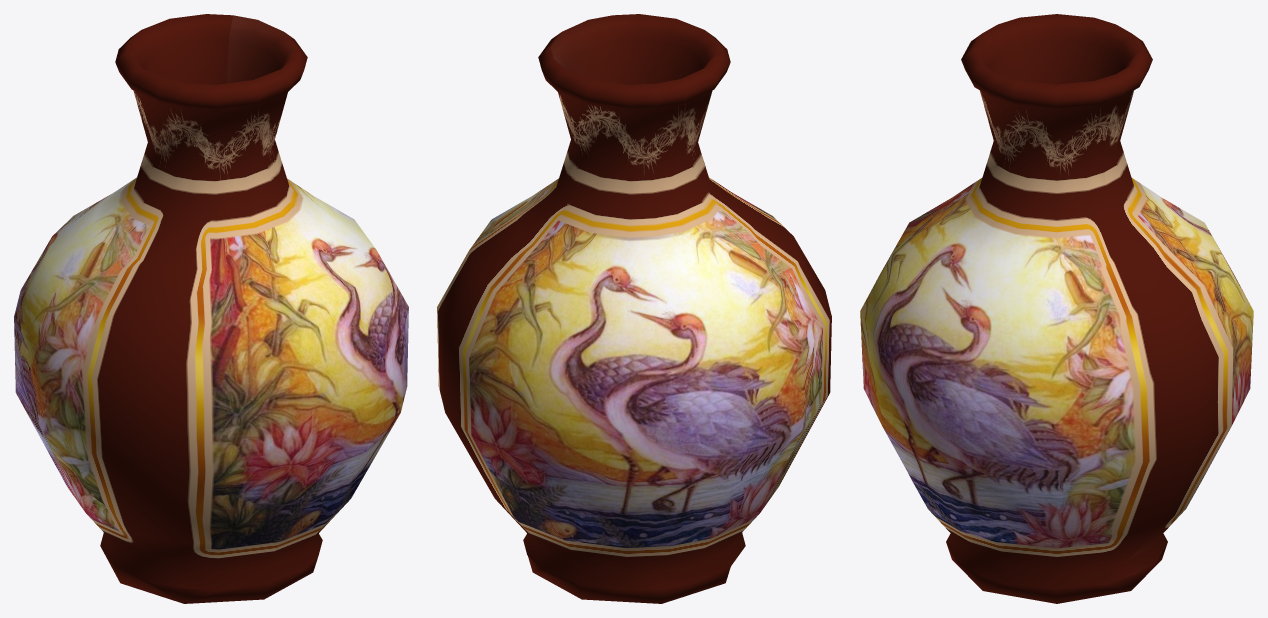
Rendered from JVase_24.fbx.
3 views of the same model, side by side, from view 1: azimuth 30°, elevation 25°; view 2: azimuth 150°, elevation 25°; view 3: azimuth 270°, elevation 25° (orthographic).
Parts seen in each view (by area): view 1: JVase_24; view 2: JVase_24; view 3: JVase_24.
Boxes of the visible parts, x1=… form: JVase_24: x1=14, y1=14, x2=408, y2=603; JVase_24: x1=437, y1=14, x2=831, y2=603; JVase_24: x1=860, y1=14, x2=1253, y2=603.
Size of the model in its own units: 44.32 by 63.39 by 44.32.
